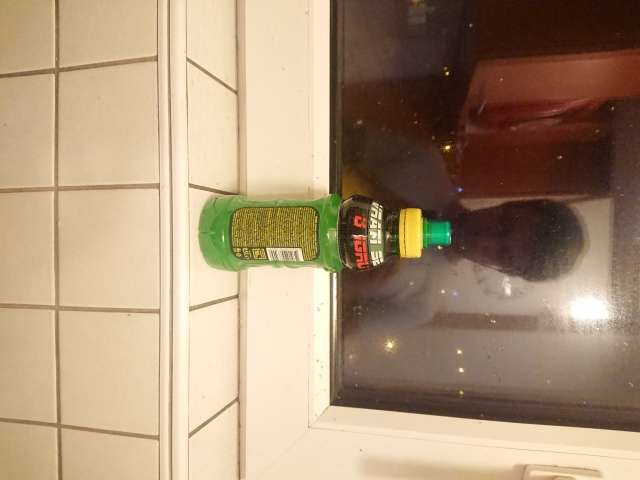Vindi Iso Sport Lemon-Grapefruit 500mL: (195, 190, 455, 276)
